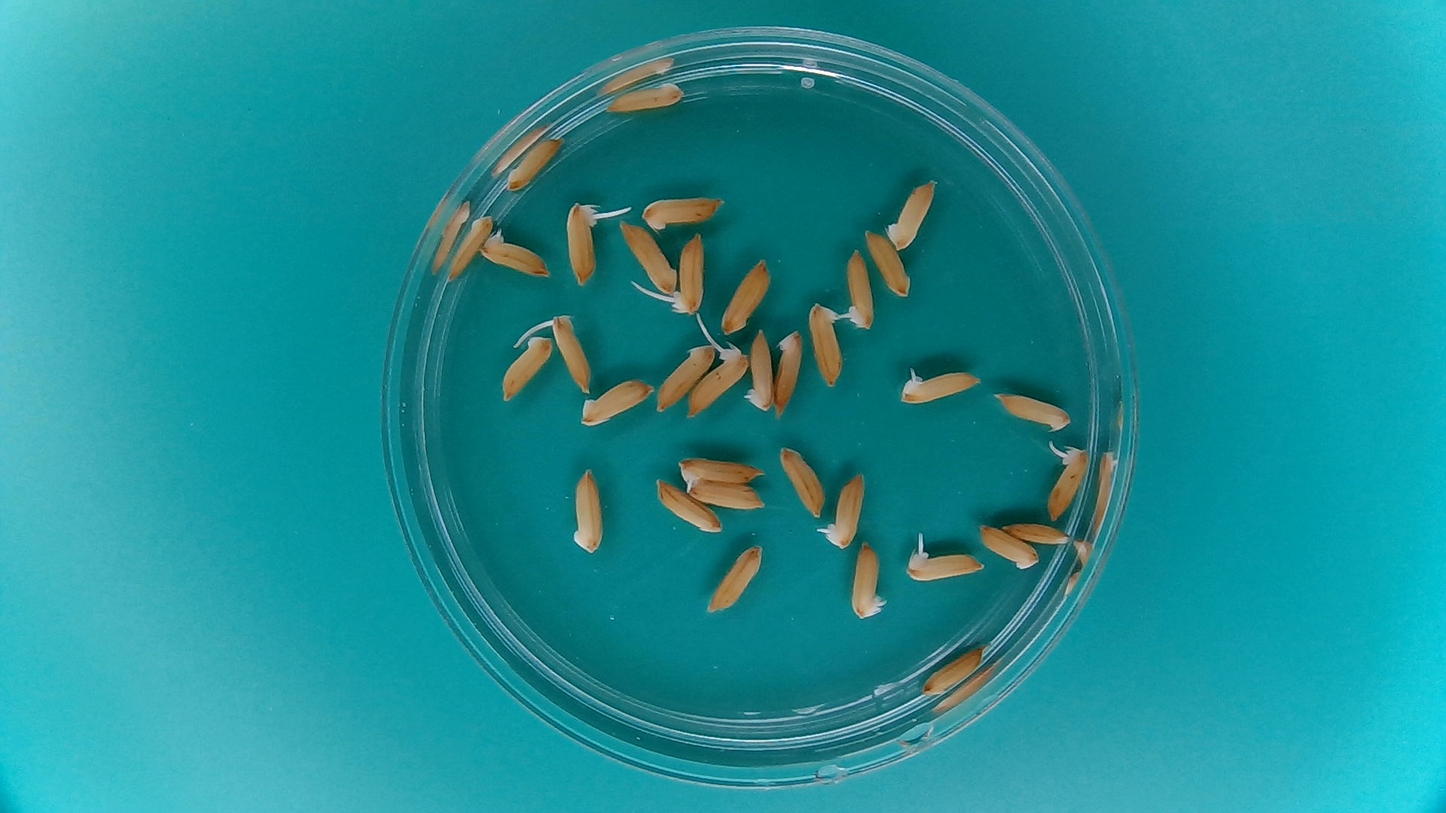no: (616, 219, 677, 294), (500, 326, 557, 403), (655, 338, 714, 410), (706, 542, 764, 614), (652, 477, 725, 534), (886, 175, 938, 253), (720, 255, 772, 333), (919, 643, 989, 698), (862, 226, 912, 300), (778, 444, 827, 516), (639, 192, 725, 233), (807, 299, 847, 387), (579, 381, 654, 427), (569, 464, 606, 557), (447, 212, 496, 282), (504, 135, 563, 192), (848, 539, 888, 623), (773, 327, 809, 417), (993, 391, 1072, 432), (977, 521, 1040, 571), (603, 78, 687, 115), (743, 326, 773, 414), (684, 480, 765, 510), (1002, 520, 1073, 547)
yes: (686, 349, 746, 421), (1048, 440, 1093, 524), (545, 314, 593, 391), (897, 366, 984, 406), (837, 248, 877, 331), (677, 453, 767, 489), (822, 475, 865, 548), (670, 230, 706, 315), (480, 233, 548, 278), (566, 201, 600, 286), (905, 547, 987, 582)
